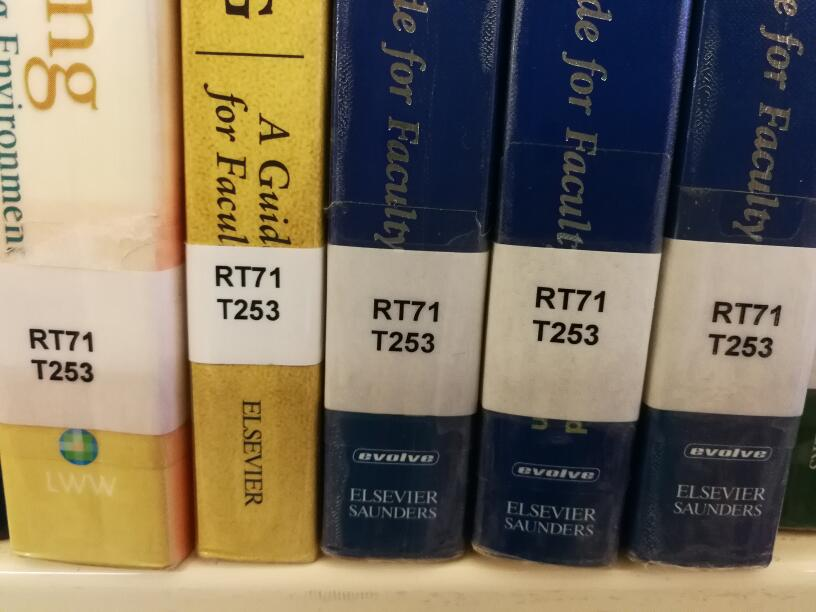booklabel: (707, 298, 784, 361), (532, 285, 608, 347), (368, 296, 441, 355), (212, 262, 282, 323), (26, 325, 99, 383)
